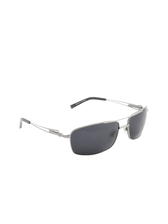glasses: (17, 96, 153, 153)
